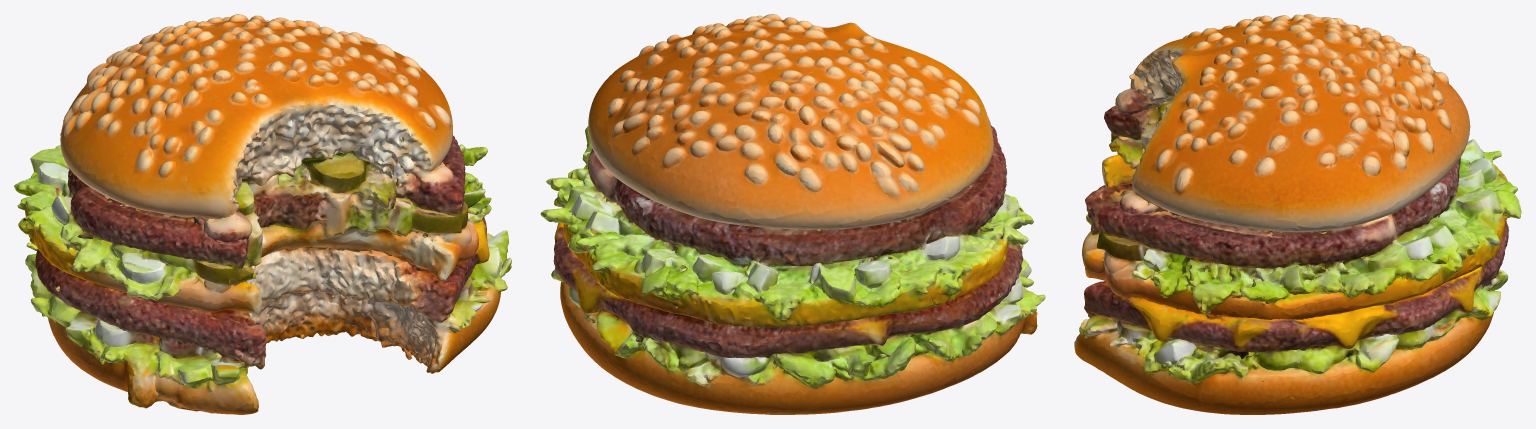
File: burger-2.glb
The picture shows the model from 3 angles, left to right: view 1: azimuth 30°, elevation 25°; view 2: azimuth 150°, elevation 25°; view 3: azimuth 270°, elevation 25°; orthographic projection. The views are drawn at different scales.
Visible parts, largest first — view 1: geometry_0; view 2: geometry_0; view 3: geometry_0.
Part boxes in pixels (bbox=[...]): geometry_0: bbox=[14, 14, 511, 414]; geometry_0: bbox=[540, 14, 1045, 414]; geometry_0: bbox=[1074, 14, 1521, 414].
Size of the model in its own units: 0.1927 by 0.125 by 0.1773.
1 material, 1 textured.
